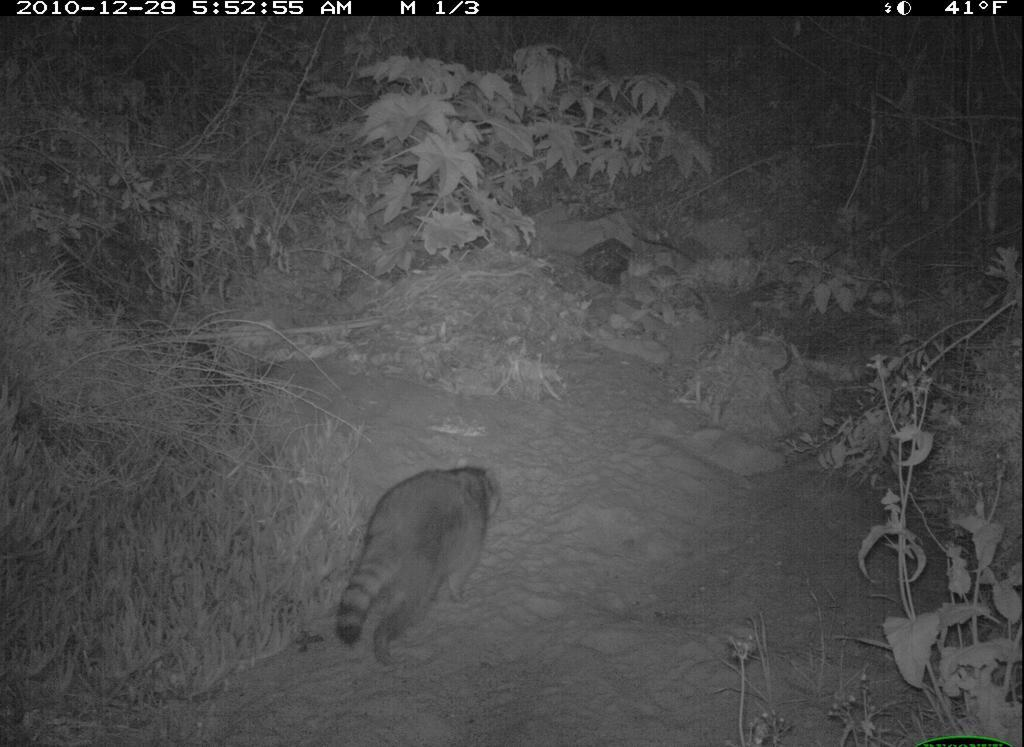raccoon: (328, 460, 513, 666)
